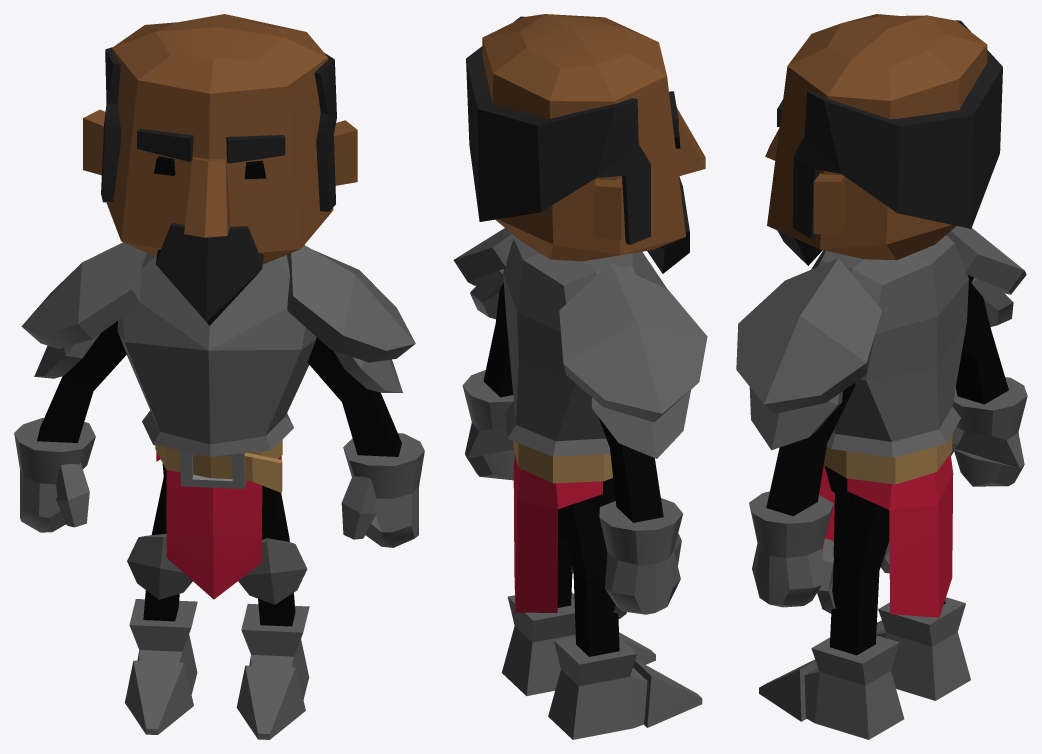
File: army62.glb
The picture shows the model from 3 angles, left to right: view 1: azimuth 30°, elevation 25°; view 2: azimuth 150°, elevation 25°; view 3: azimuth 270°, elevation 25°; orthographic projection.
Parts seen in each view (by area): view 1: Soldier_62; view 2: Soldier_62; view 3: Soldier_62.
Boxes of the visible parts, <box> form: Soldier_62: <box>14,14,424,739</box>; Soldier_62: <box>453,14,707,739</box>; Soldier_62: <box>736,14,1027,739</box>.
Bounding box in the file's own units: 0.1333 × 0.2787 × 0.1096.
Materials: 3 (1 with a texture image).
